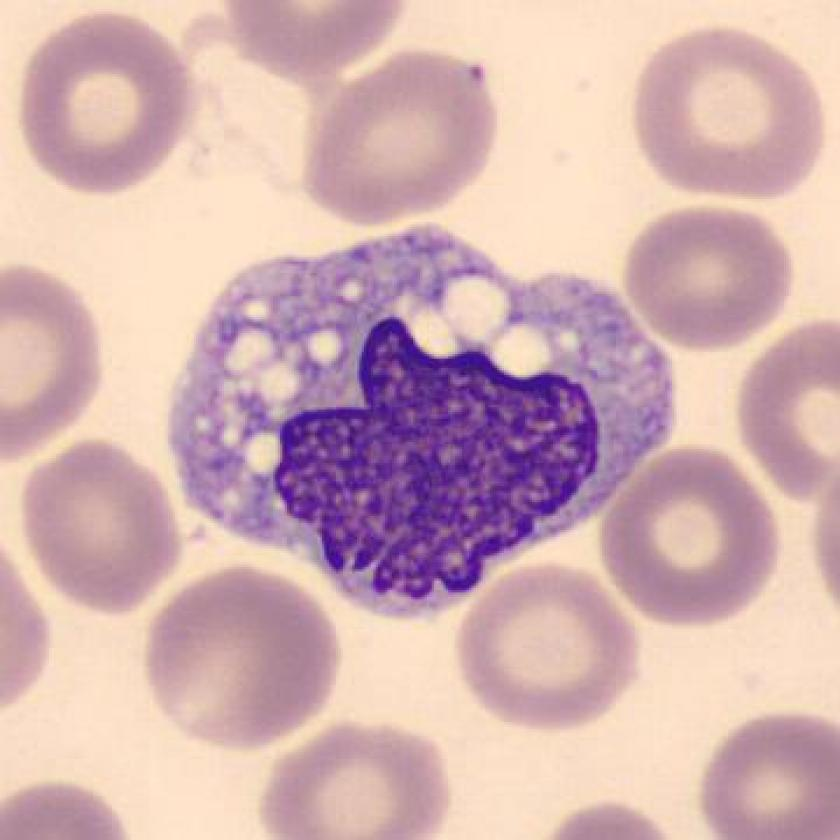monocyte: (155, 209, 706, 647)
